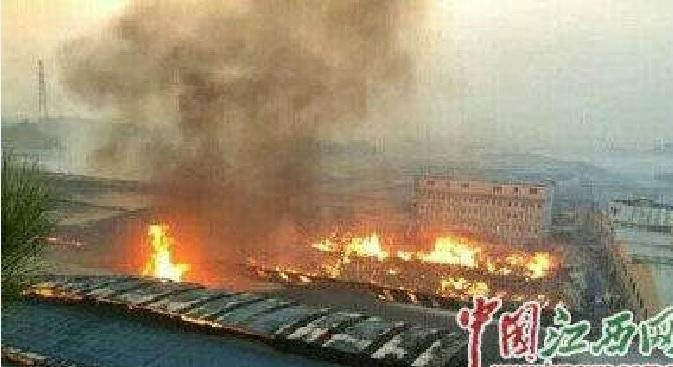fire: (303, 217, 561, 277), (137, 220, 190, 279)
